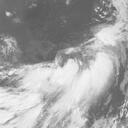cyclone: (42, 42, 119, 108)
